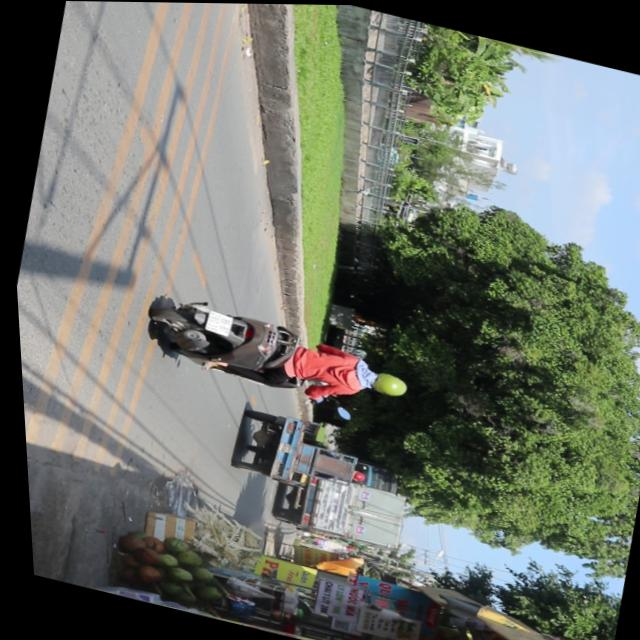helmet: (362, 366, 407, 398)
licenseplate: (135, 286, 415, 421)
nohelmet: (201, 309, 232, 336)
